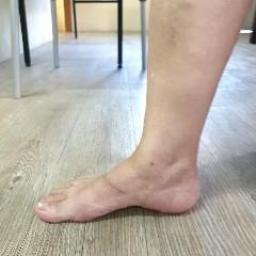Medial View -Right Foot-: (20, 112, 234, 236)
